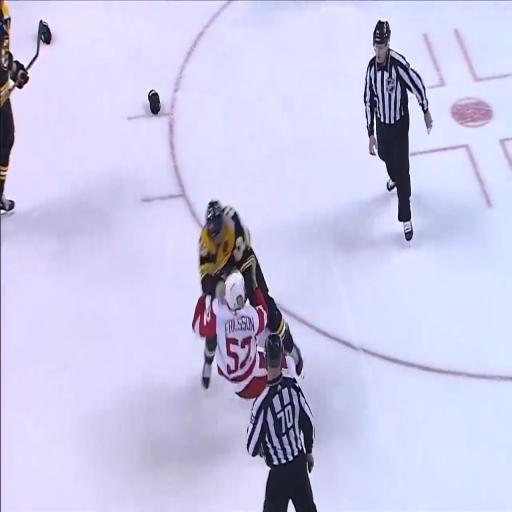violencia: (179, 175, 310, 417)
